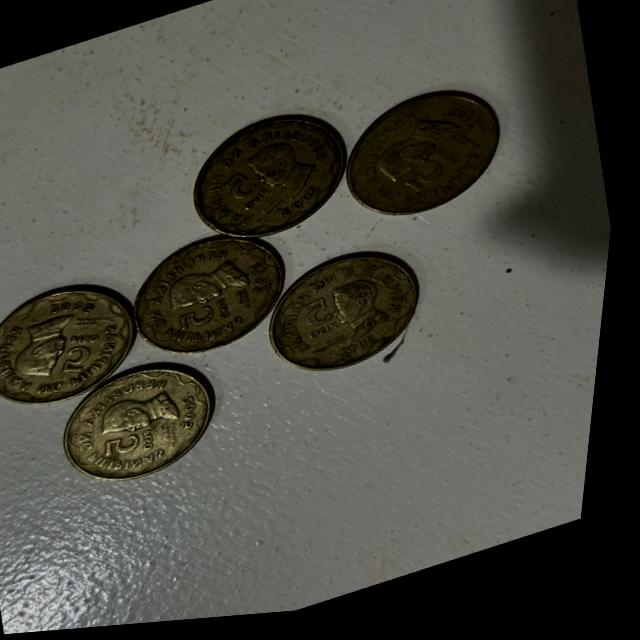5_Old_Front: (397, 147, 474, 210), (59, 325, 129, 389), (298, 290, 355, 355), (104, 424, 179, 473), (179, 300, 246, 351), (220, 166, 277, 222)
